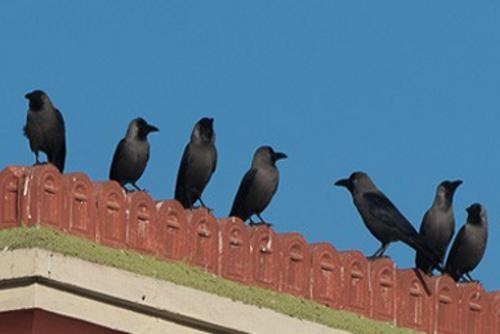crow: (328, 169, 418, 263), (235, 137, 291, 225), (172, 114, 219, 213), (414, 171, 458, 272), (25, 91, 73, 175), (112, 114, 161, 193), (456, 199, 493, 272)
